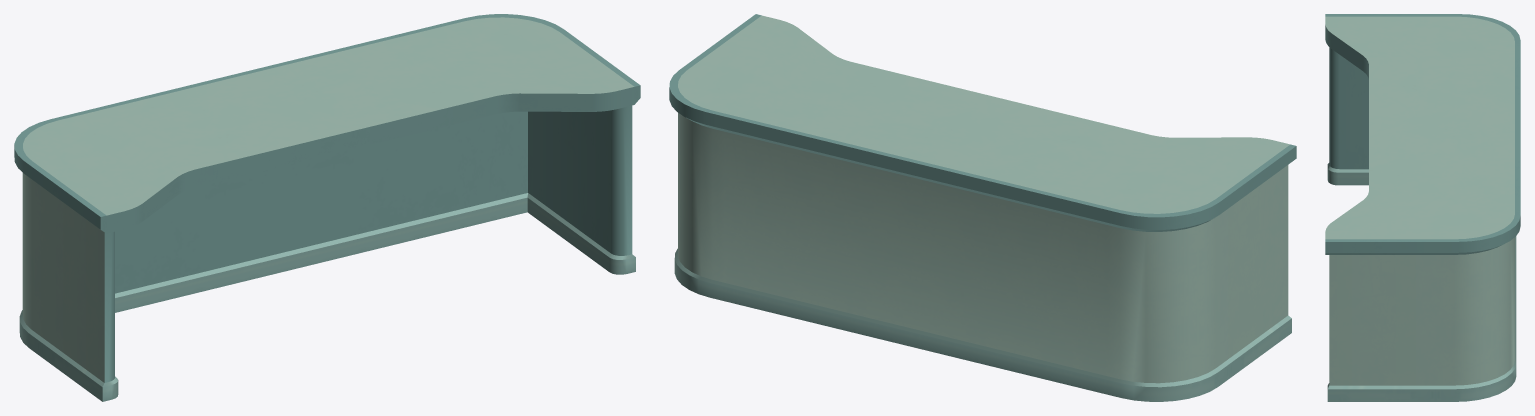
File: EnamelBench.gltf
3 views of the same model, side by side, from view 1: azimuth 30°, elevation 25°; view 2: azimuth 150°, elevation 25°; view 3: azimuth 270°, elevation 25° (orthographic). The views are drawn at different scales.
Parts seen in each view (by area): view 1: Prop_Desk_Medium; view 2: Prop_Desk_Medium; view 3: Prop_Desk_Medium.
Part boxes in pixels (<box>): Prop_Desk_Medium: <box>14,14,640,401</box>; Prop_Desk_Medium: <box>669,14,1296,401</box>; Prop_Desk_Medium: <box>1325,14,1520,401</box>.
Bounding box in the file's own units: 2.84 × 0.9396 × 1.03.
Materials: 3 (3 with a texture image).
